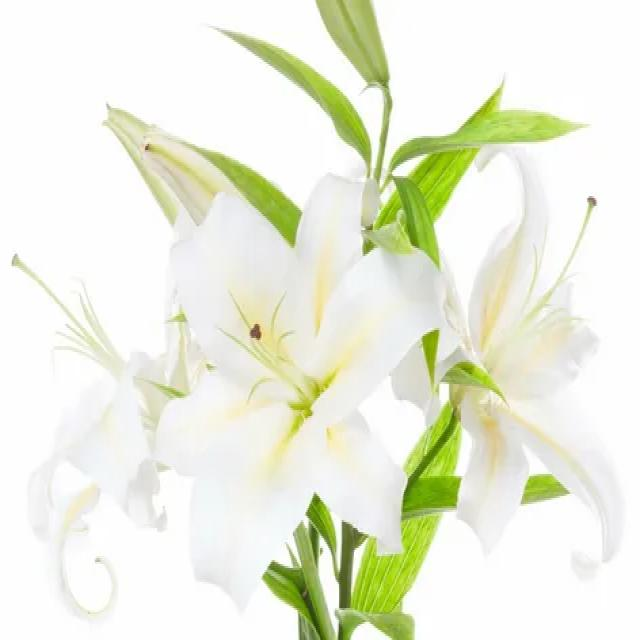lily: (149, 176, 456, 614)
